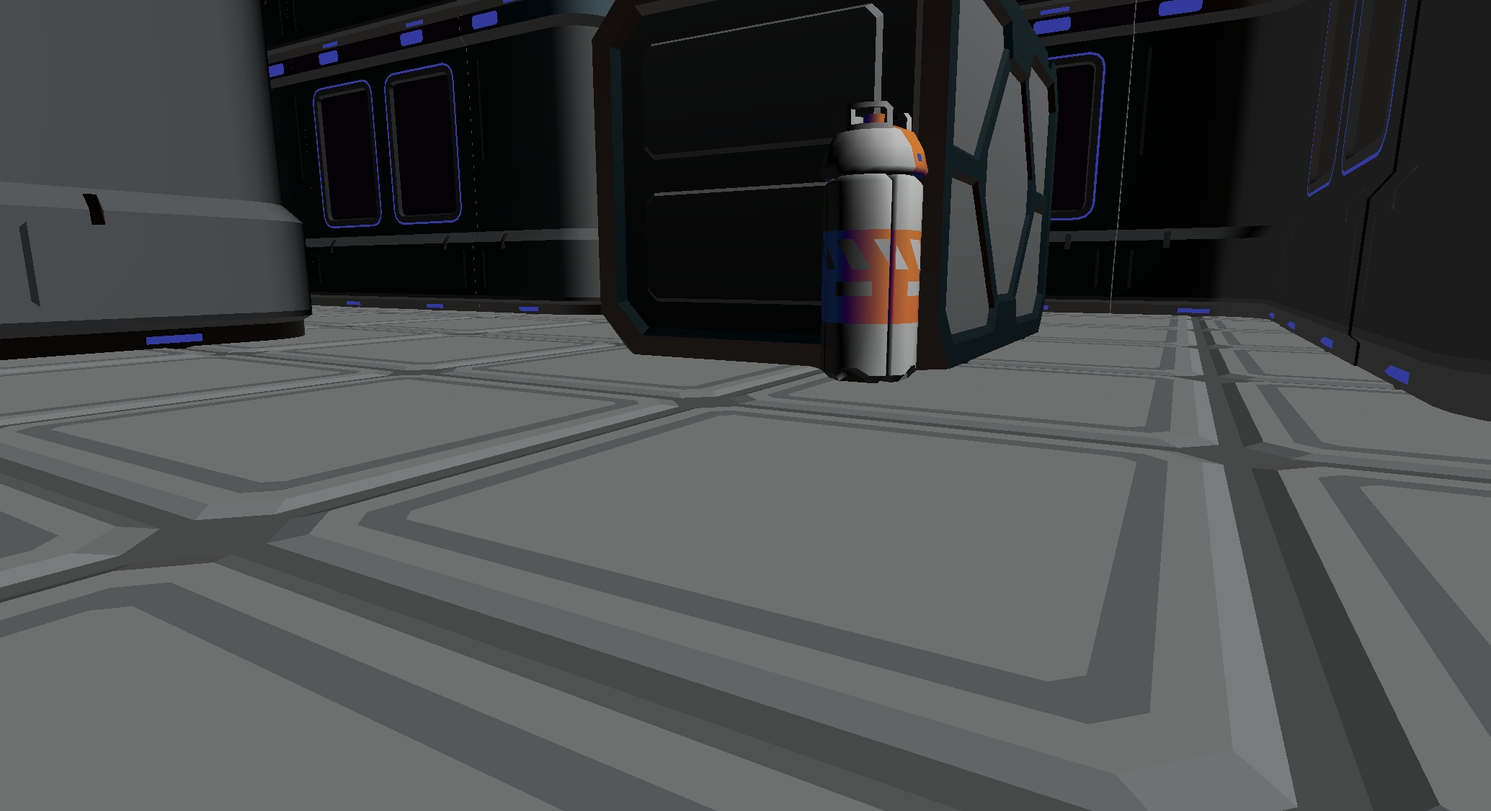yellow_barrel: (821, 102, 928, 381)
